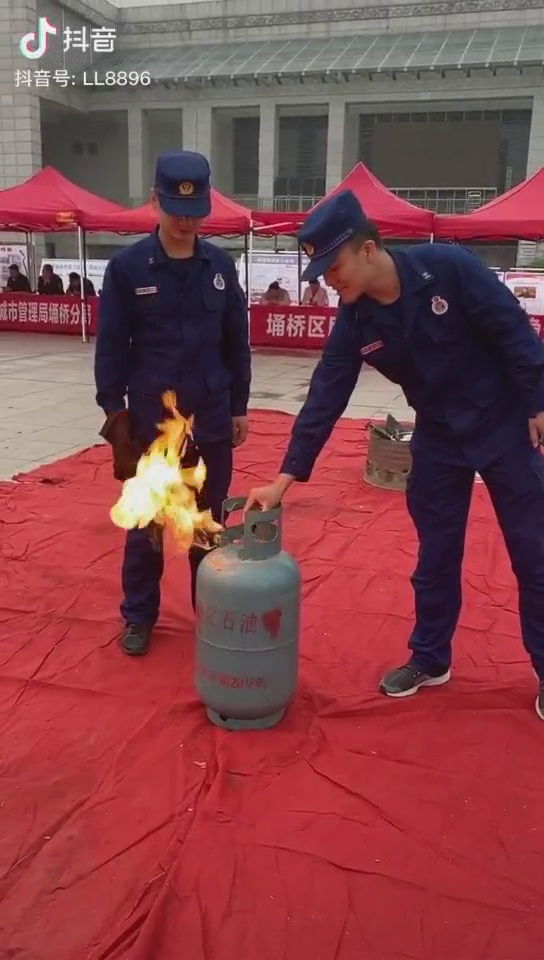fire: (113, 416, 209, 556)
